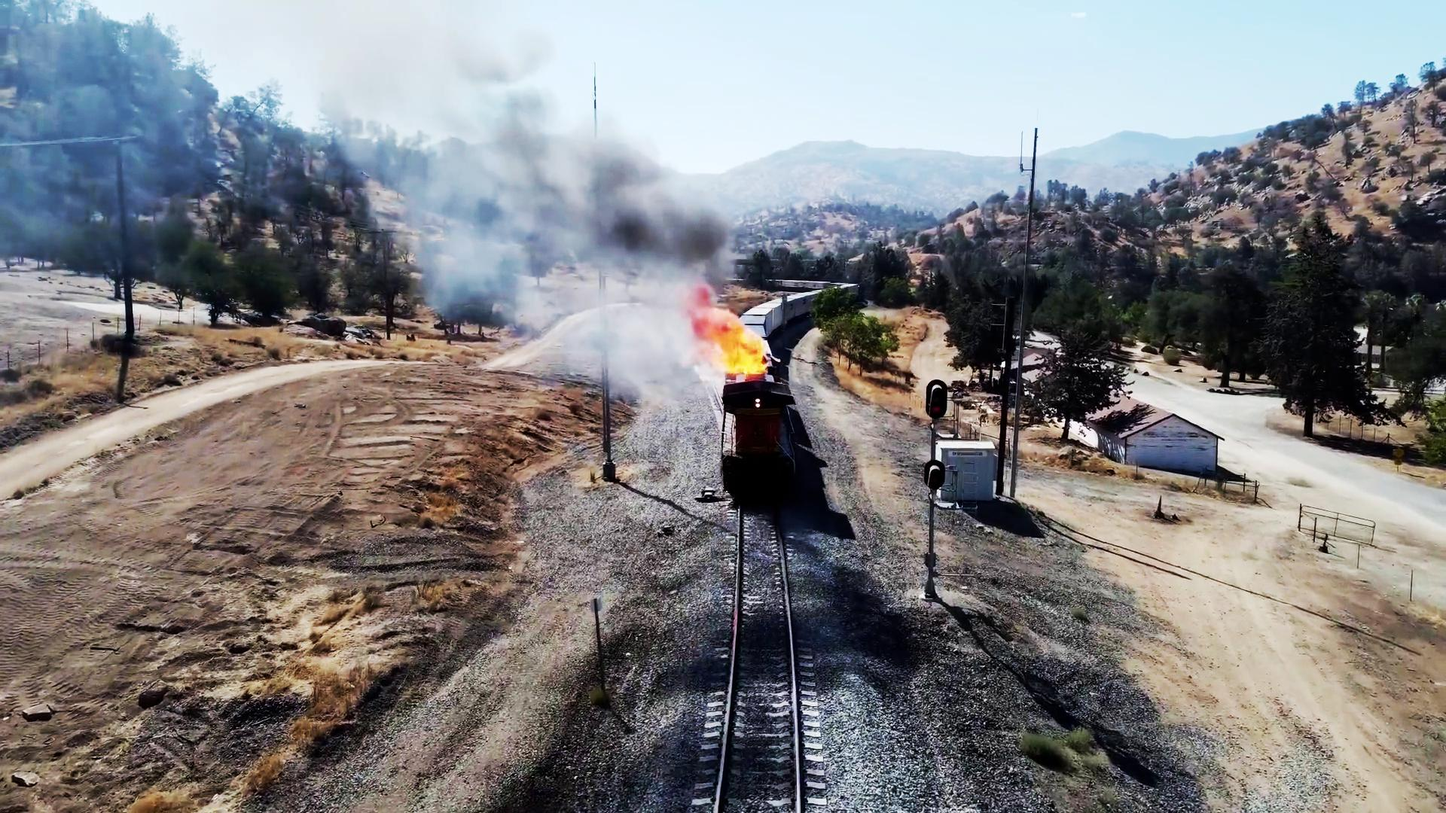fire: (686, 309, 781, 375)
smoke: (569, 121, 722, 268)
